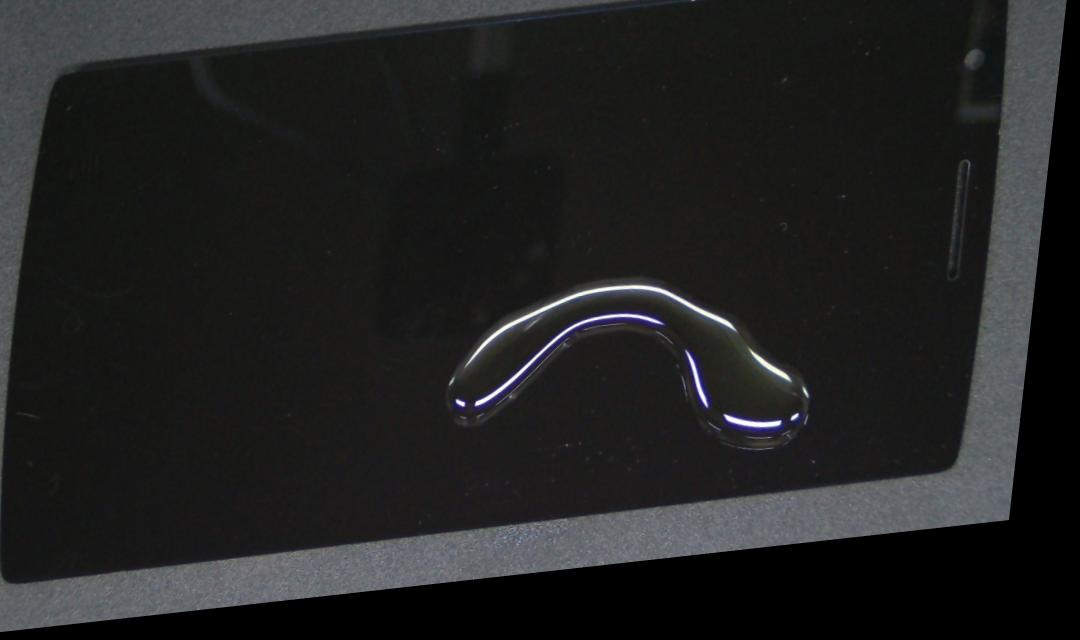oil: (388, 258, 855, 479)
